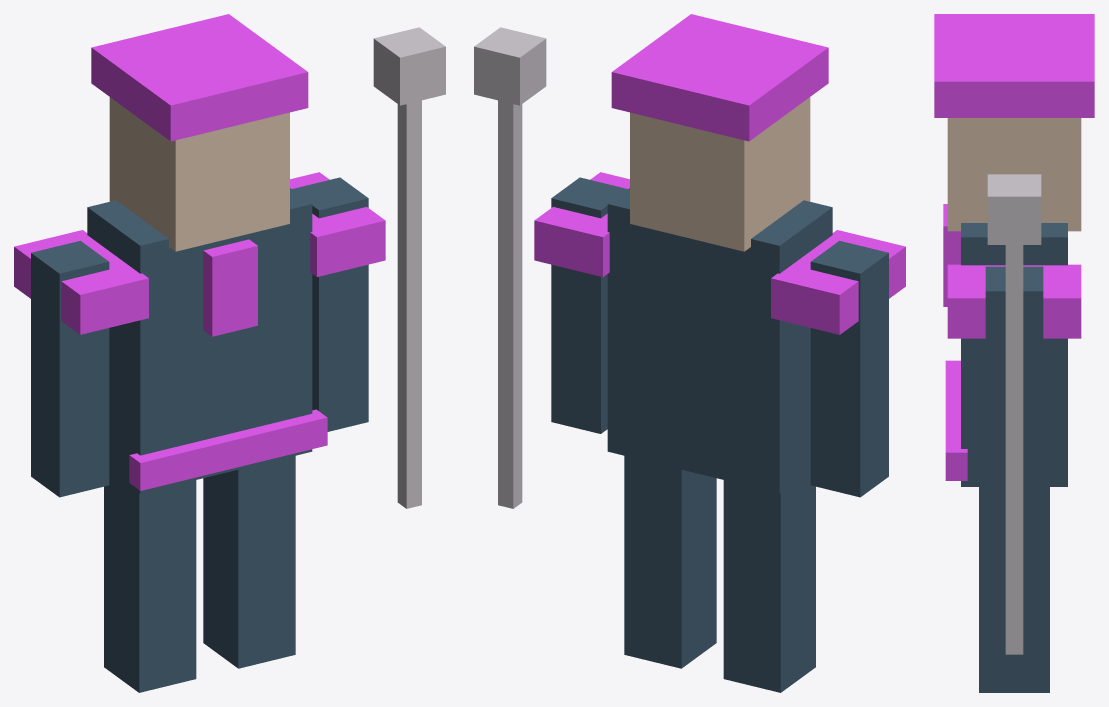
The model's file is 19_elo_deepwell_fixer_from_security.glb.
3 views of the same model, side by side, from view 1: azimuth 30°, elevation 25°; view 2: azimuth 150°, elevation 25°; view 3: azimuth 270°, elevation 25° (orthographic).
Parts seen in each view (by area): view 1: Elo Deepwell, Fixer from Security; view 2: Elo Deepwell, Fixer from Security; view 3: Elo Deepwell, Fixer from Security.
Part boxes in pixels (bbox=[...]): Elo Deepwell, Fixer from Security: bbox=[14, 14, 445, 692]; Elo Deepwell, Fixer from Security: bbox=[474, 14, 905, 692]; Elo Deepwell, Fixer from Security: bbox=[934, 14, 1094, 692].
Bounding box in the file's own units: 0.983 × 1.46 × 0.3487.
